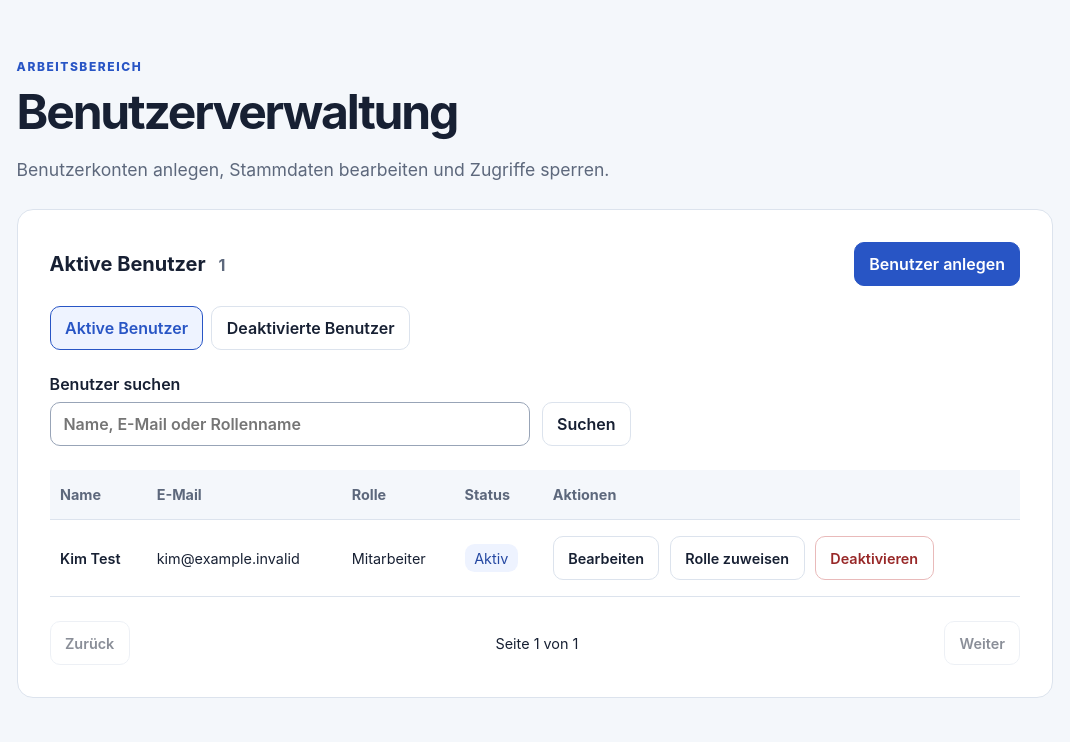
it: Benutzerverwaltung › Admin darf Mitarbeiter zum Gerätemanager machen
Check: the text "kim@example.invalid" is shown, box [146,520,341,597]
Click the button "Rolle zuweisen".
click(737, 558)  # box [670,536,804,580]
(page scrolled)
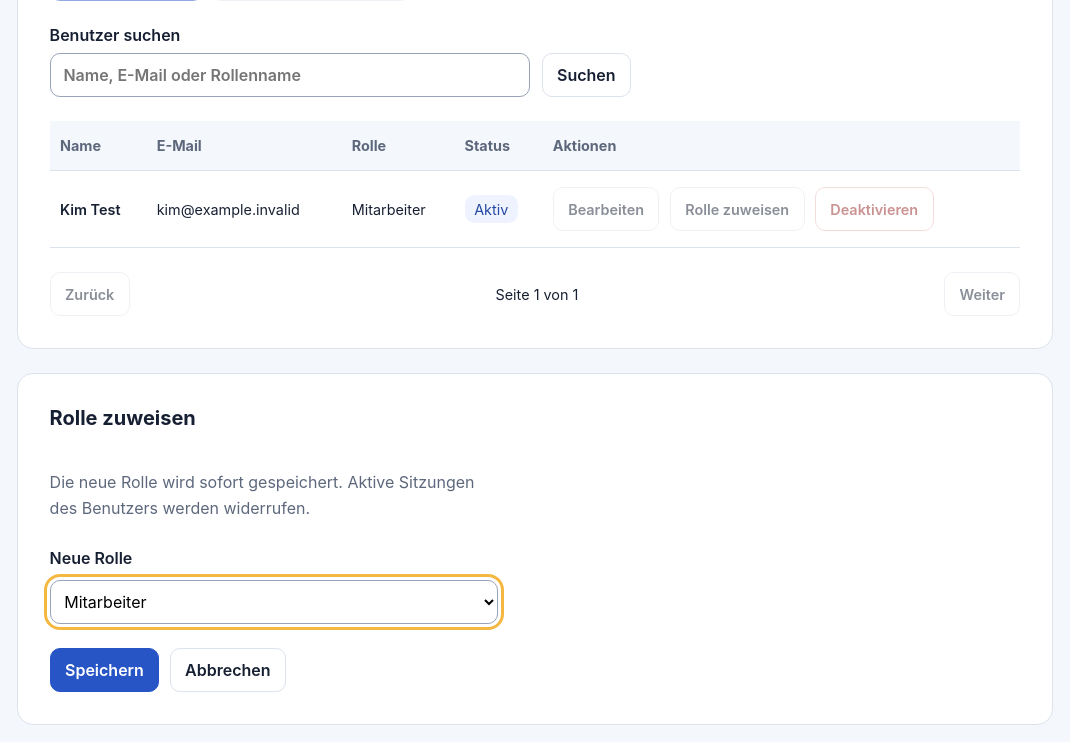
Select "Gerätemanager" in the dropdown labelled "Neue Rolle" at (274, 602), box [50,580,498,624]
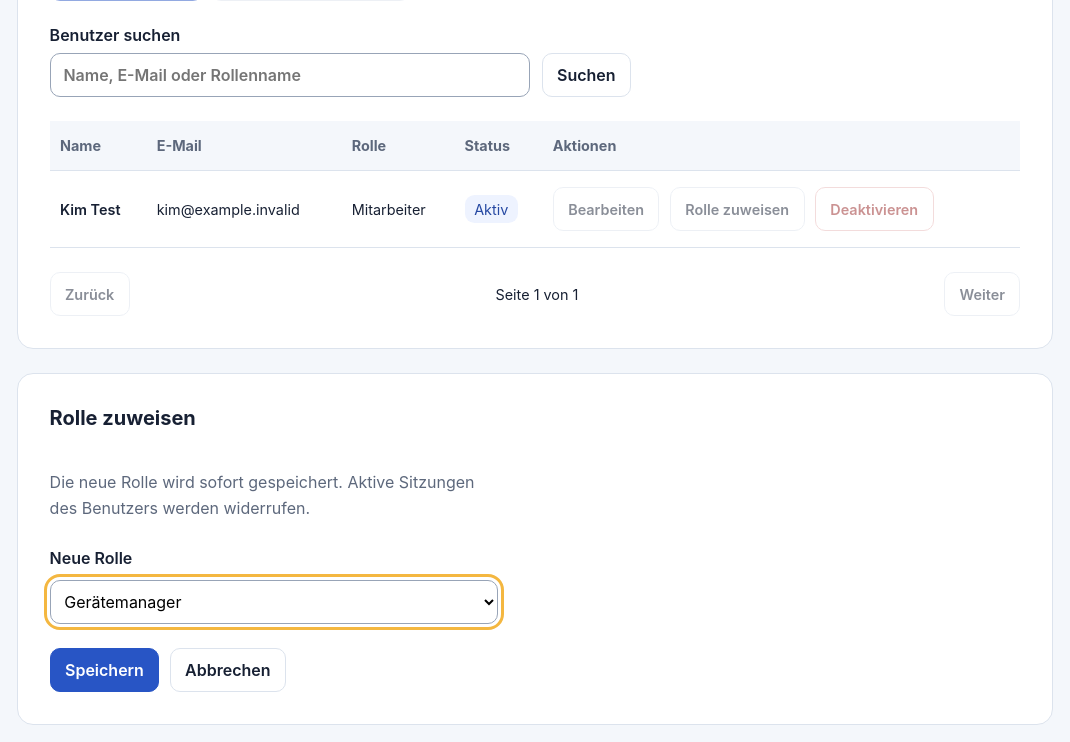
Click the button "Speichern".
click(104, 670)  # box [50,648,159,692]
(page scrolled)
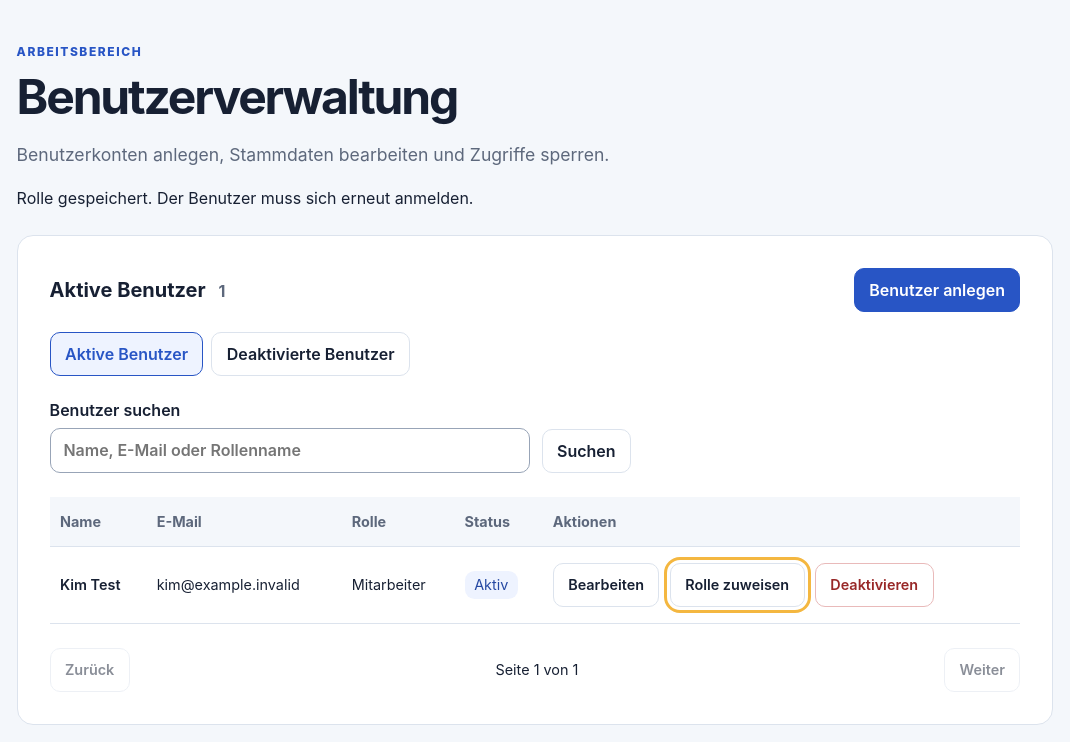
Check: the text "Rolle gespeichert. Der Benutzer muss sich erneut anmelden." is shown, box [17,188,474,208]
